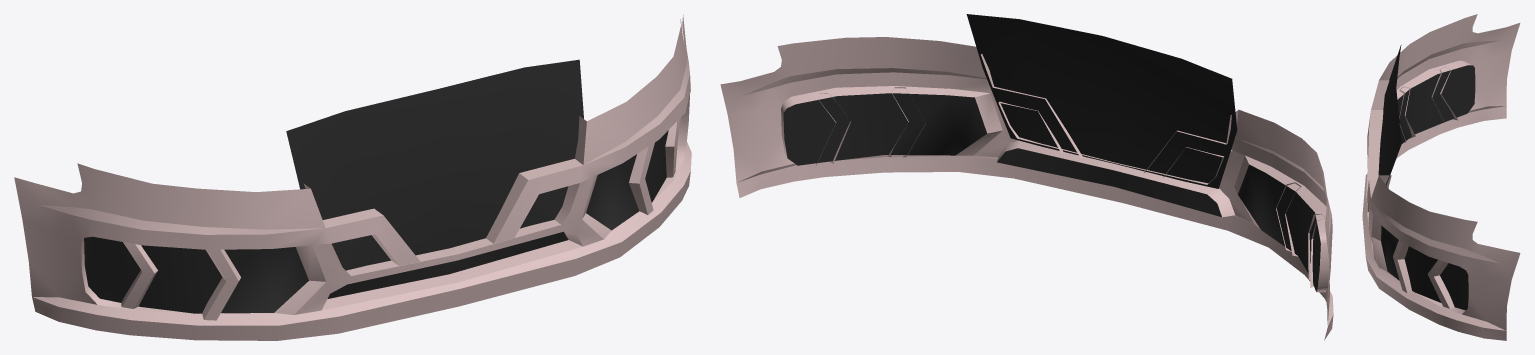
The model's file is Classic_14_Bumper_F_2.fbx.
The picture shows the model from 3 angles, left to right: view 1: azimuth 30°, elevation 25°; view 2: azimuth 150°, elevation 25°; view 3: azimuth 270°, elevation 25°; orthographic projection. The views are drawn at different scales.
Parts seen in each view (by area): view 1: Classic_14_Bumper_F_2; view 2: Classic_14_Bumper_F_2; view 3: Classic_14_Bumper_F_2.
Part boxes in pixels (x1,y1,x2,y2): Classic_14_Bumper_F_2: (14, 14, 691, 340); Classic_14_Bumper_F_2: (720, 14, 1333, 340); Classic_14_Bumper_F_2: (1362, 14, 1520, 340).
Size of the model in its own units: 204 by 58.6 by 59.17.
